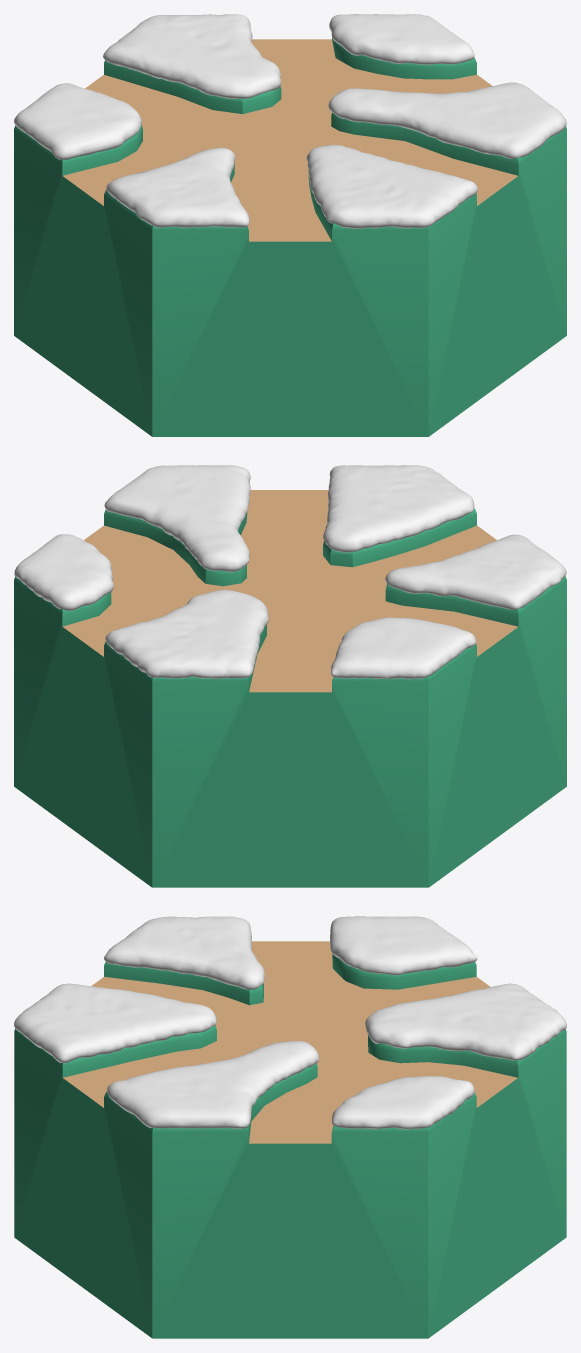
File: snow_hex_forest_roadM.fbx
3 views of the same model, one above another, from view 1: azimuth 30°, elevation 25°; view 2: azimuth 150°, elevation 25°; view 3: azimuth 270°, elevation 25° (orthographic).
Visible parts, largest first — view 1: hex_forest_roadM.001, SnowBall.001, hex_forest_roadM; view 2: hex_forest_roadM.001, SnowBall.001, hex_forest_roadM; view 3: hex_forest_roadM.001, SnowBall.001, hex_forest_roadM.
Boxes of the visible parts, x1,y1,x2,y2 form: hex_forest_roadM.001: [14, 37, 566, 436]; SnowBall.001: [14, 14, 566, 228]; hex_forest_roadM: [63, 39, 517, 241]; hex_forest_roadM.001: [14, 508, 566, 887]; SnowBall.001: [14, 465, 566, 679]; hex_forest_roadM: [63, 490, 517, 692]; hex_forest_roadM.001: [14, 954, 566, 1338]; SnowBall.001: [14, 916, 566, 1129]; hex_forest_roadM: [63, 941, 517, 1143].
Bounding box in the file's own units: 203 × 104 × 231.
